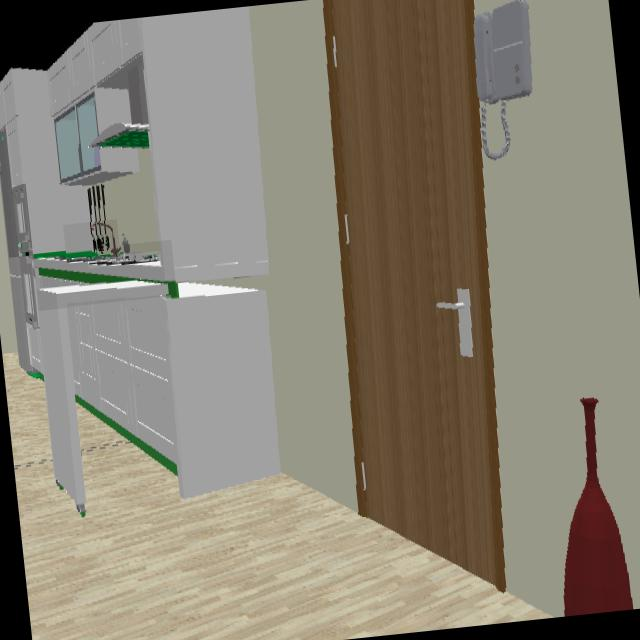cabinet: (0, 18, 140, 252), (70, 296, 176, 462)
countertop: (34, 252, 177, 295)
fridge: (0, 129, 31, 371)
microwave: (13, 184, 31, 251)
oven: (21, 251, 38, 326)
sink: (67, 221, 119, 261)
stove: (89, 253, 160, 265)
